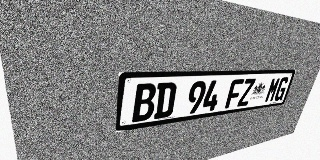4: (201, 80, 223, 112)
9: (185, 81, 208, 114)
B: (132, 83, 157, 122)
D: (153, 82, 177, 119)
F: (225, 79, 244, 109)
G: (273, 77, 290, 101)
M: (264, 77, 281, 103)
Z: (237, 78, 256, 107)
